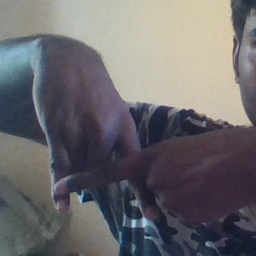H: (45, 120, 179, 235)
